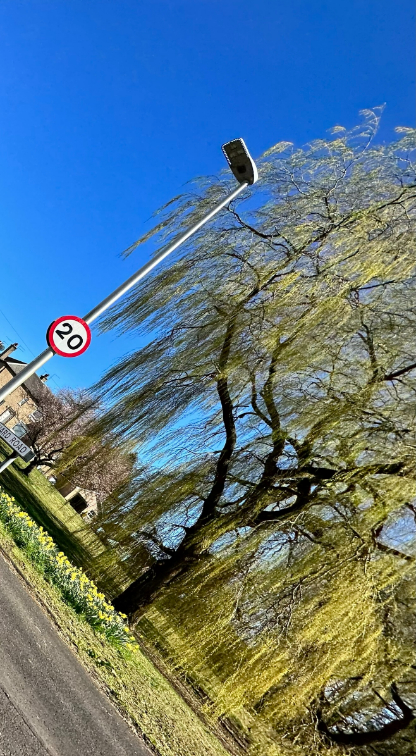tree: (107, 103, 416, 709)
